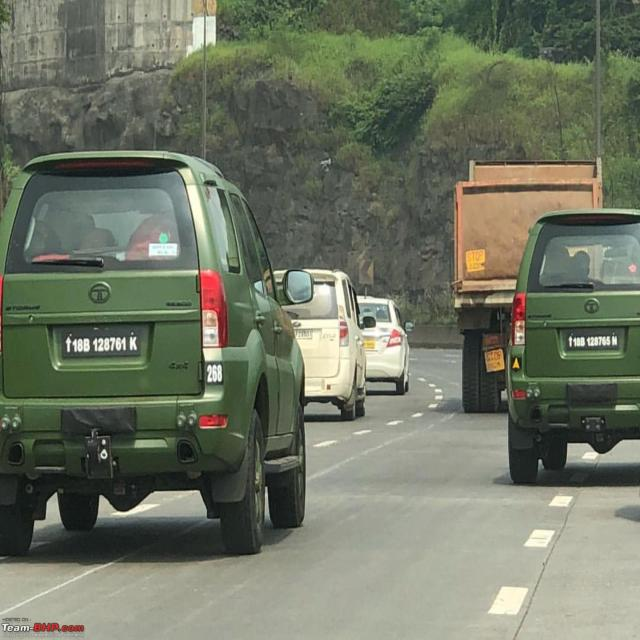military-plate: (60, 327, 141, 361), (564, 329, 622, 351)
unit number: (206, 362, 225, 386)
